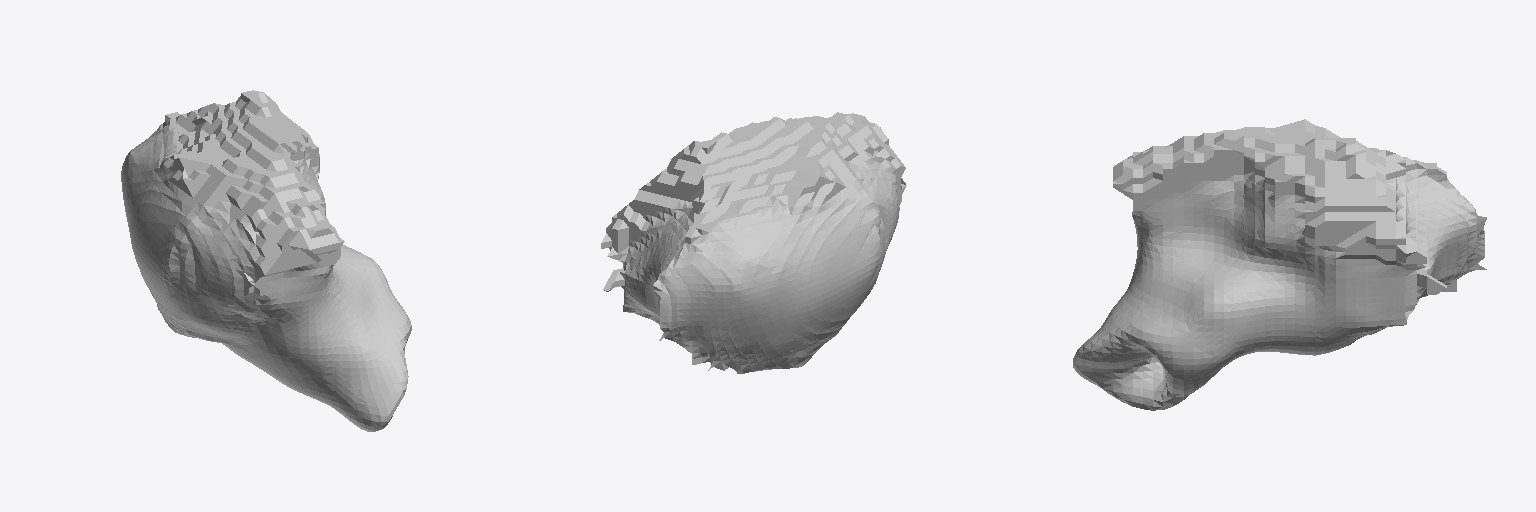
The model's file is segmentation_2.obj.
3 views of the same model, side by side, from view 1: azimuth 30°, elevation 25°; view 2: azimuth 150°, elevation 25°; view 3: azimuth 270°, elevation 25° (orthographic).
Parts seen in each view (by area): view 1: grp1; view 2: grp1; view 3: grp1.
Part boxes in pixels (x1,y1,x2,y2): grp1: (121,90,411,431); grp1: (601,112,906,373); grp1: (1073,119,1486,410).
Bounding box in the file's own units: 34.16 × 42.35 × 61.45.